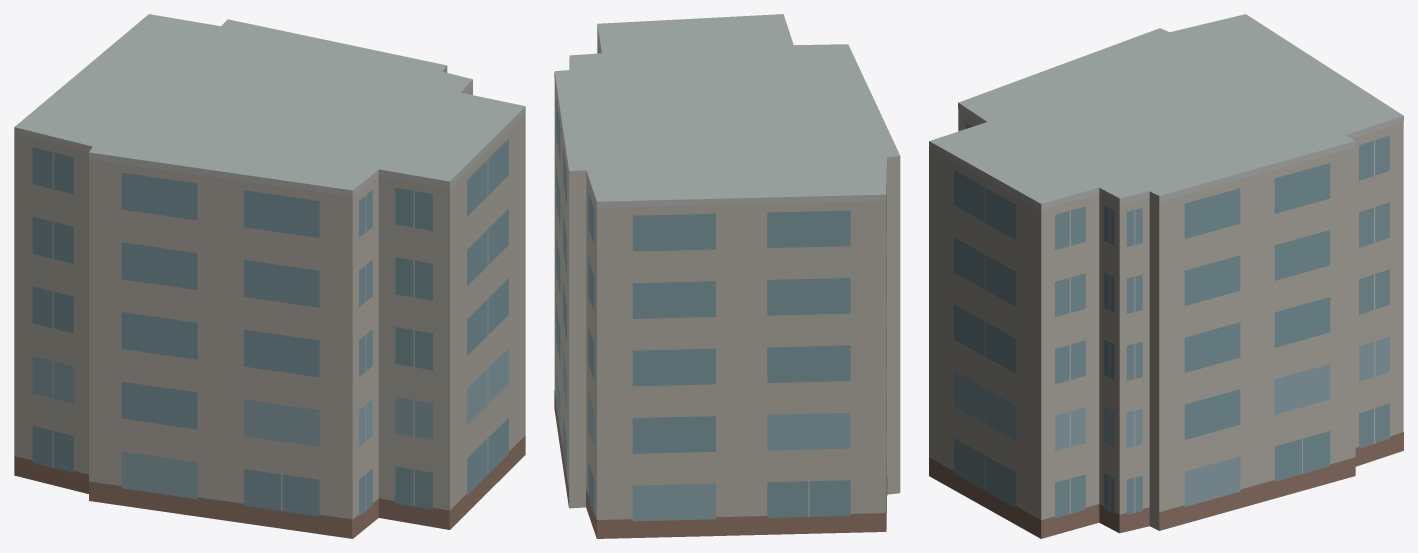
The model's file is survey-upis-32464672.glb.
3 views of the same model, side by side, from view 1: azimuth 30°, elevation 25°; view 2: azimuth 150°, elevation 25°; view 3: azimuth 270°, elevation 25° (orthographic). The views are drawn at different scales.
Parts seen in each view (by area): view 1: survey-upis-32464672.tmp; view 2: survey-upis-32464672.tmp; view 3: survey-upis-32464672.tmp.
Boxes of the visible parts, box(x1,y1,x2,y2) form: survey-upis-32464672.tmp: box(14, 14, 525, 538); survey-upis-32464672.tmp: box(554, 14, 900, 538); survey-upis-32464672.tmp: box(929, 14, 1403, 538).
Bounding box in the file's own units: 15.94 × 13.1 × 16.83.
